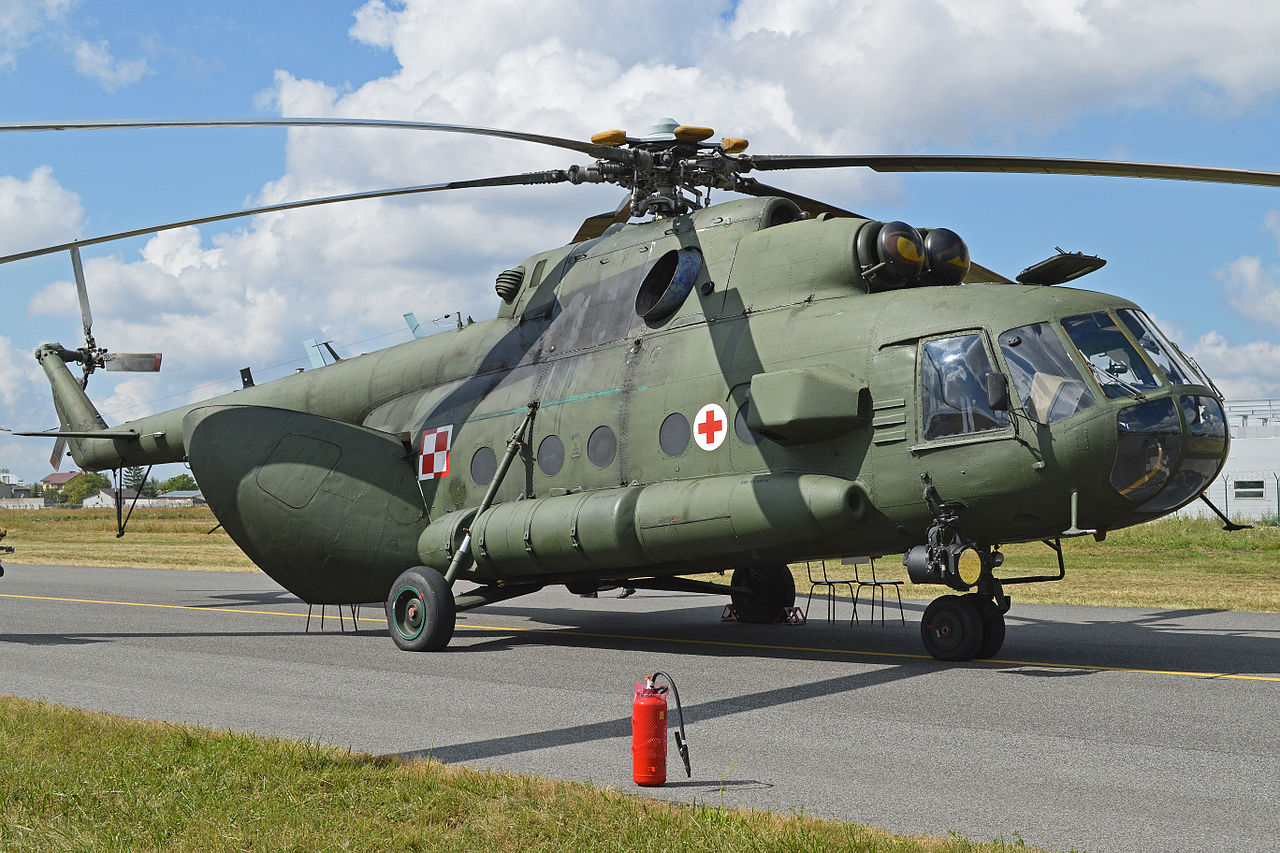Aeronef_militaire: (1, 94, 1280, 669)
